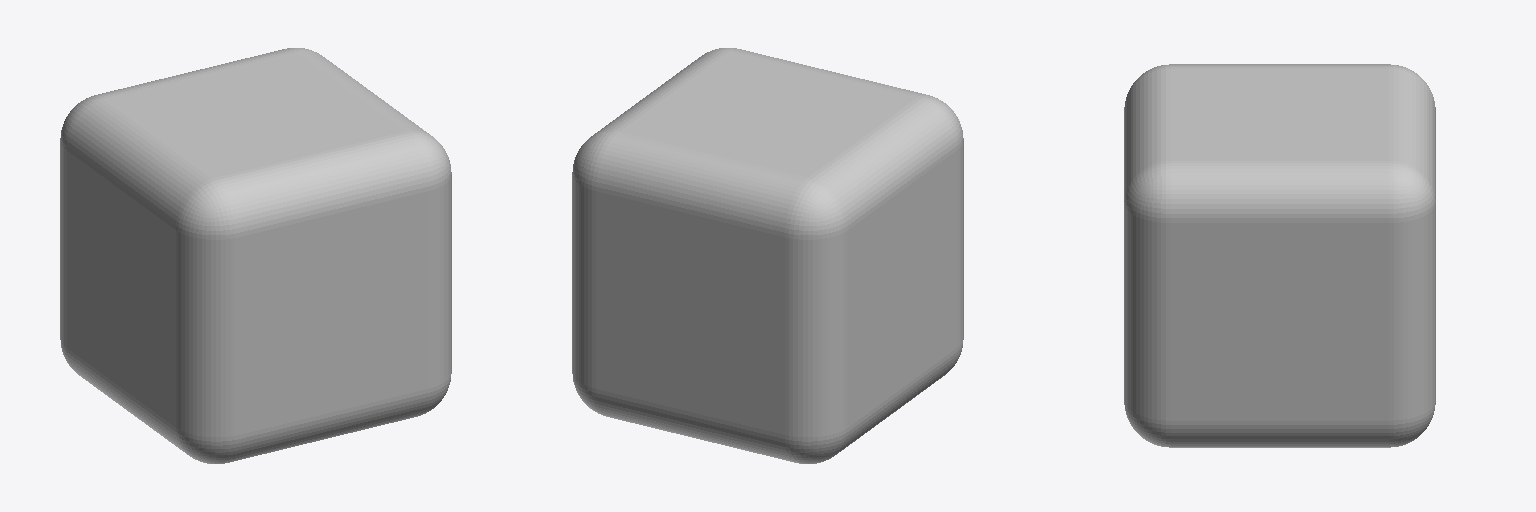
The model's file is BevelCube.obj.
3 views of the same model, side by side, from view 1: azimuth 30°, elevation 25°; view 2: azimuth 150°, elevation 25°; view 3: azimuth 270°, elevation 25° (orthographic).
Visible parts, largest first — view 1: Cube; view 2: Cube; view 3: Cube.
Part boxes in pixels (bbox=[...]): Cube: bbox=[60, 48, 451, 463]; Cube: bbox=[572, 48, 963, 463]; Cube: bbox=[1124, 64, 1435, 447].
Bounding box in the file's own units: 2 × 2 × 2.